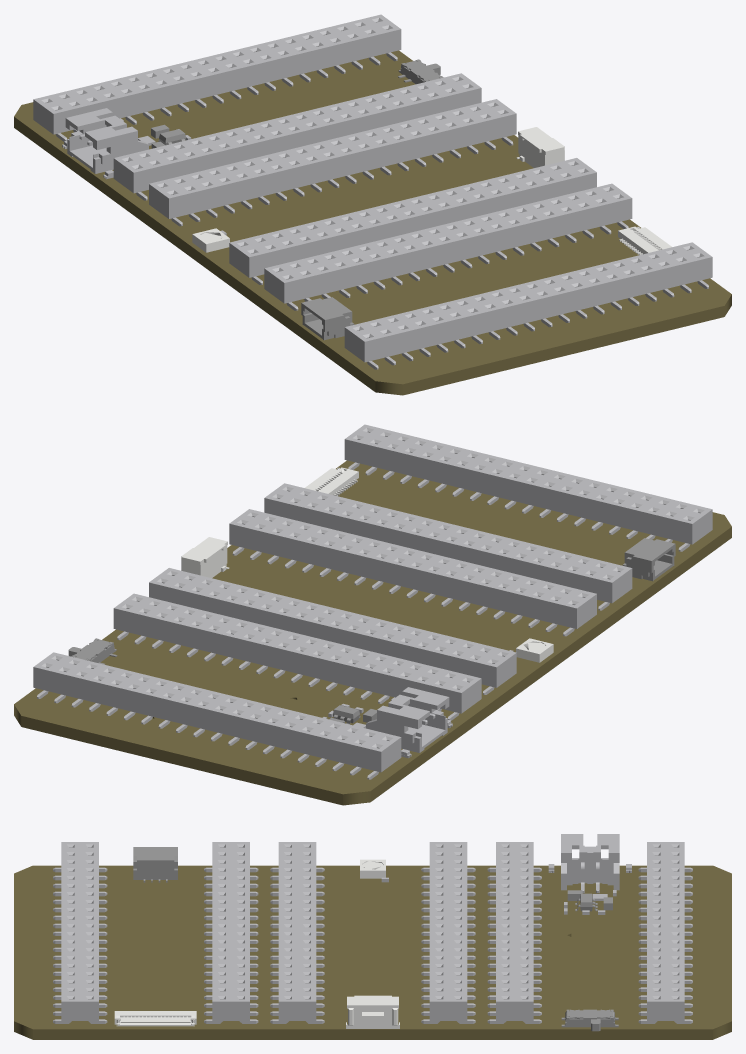
Rendered from ada-5967.glb.
3 renders of one model, top to bottom at view 1: azimuth 30°, elevation 25°; view 2: azimuth 150°, elevation 25°; view 3: azimuth 270°, elevation 25°, orthographic. The views are drawn at different scales.
Parts seen in each view (by area): view 1: 0.5833333333333334_0.5833333333333334_0.5833333333333334_0.8, 0.16666666666666666_0.16666666666666666_0.08333333333333333_, 0.9166666666666666_0.9166666666666666_0.9166666666666666_0.8, 0.3333333333333333_0.3333333333333333_0.3333333333333333_0; view 2: 0.5833333333333334_0.5833333333333334_0.5833333333333334_0.8, 0.16666666666666666_0.16666666666666666_0.08333333333333333_, 0.9166666666666666_0.9166666666666666_0.9166666666666666_0.8, 0.3333333333333333_0.3333333333333333_0.3333333333333333_0; view 3: 0.16666666666666666_0.16666666666666666_0.08333333333333333_, 0.5833333333333334_0.5833333333333334_0.5833333333333334_0.8, 0.9166666666666666_0.9166666666666666_0.9166666666666666_0.8, 0.3333333333333333_0.3333333333333333_0.3333333333333333_0.
Part boxes in pixels (bbox=[...]): 0.5833333333333334_0.5833333333333334_0.5833333333333334_0.8: bbox=[33, 14, 712, 369]; 0.16666666666666666_0.16666666666666666_0.08333333333333333_: bbox=[14, 50, 731, 395]; 0.9166666666666666_0.9166666666666666_0.9166666666666666_0.8: bbox=[192, 127, 672, 255]; 0.3333333333333333_0.3333333333333333_0.3333333333333333_0: bbox=[151, 59, 443, 340]; 0.5833333333333334_0.5833333333333334_0.5833333333333334_0.8: bbox=[33, 424, 712, 779]; 0.16666666666666666_0.16666666666666666_0.08333333333333333_: bbox=[14, 460, 731, 805]; 0.9166666666666666_0.9166666666666666_0.9166666666666666_0.8: bbox=[181, 467, 553, 662]; 0.3333333333333333_0.3333333333333333_0.3333333333333333_0: bbox=[68, 538, 675, 724]; 0.16666666666666666_0.16666666666666666_0.08333333333333333_: bbox=[14, 865, 731, 1039]; 0.5833333333333334_0.5833333333333334_0.5833333333333334_0.8: bbox=[53, 834, 692, 1023]; 0.9166666666666666_0.9166666666666666_0.9166666666666666_0.8: bbox=[114, 859, 399, 1028]; 0.3333333333333333_0.3333333333333333_0.3333333333333333_0: bbox=[133, 847, 618, 1031].
Size of the model in its own units: 5.32 by 0.6369 by 9.65.
